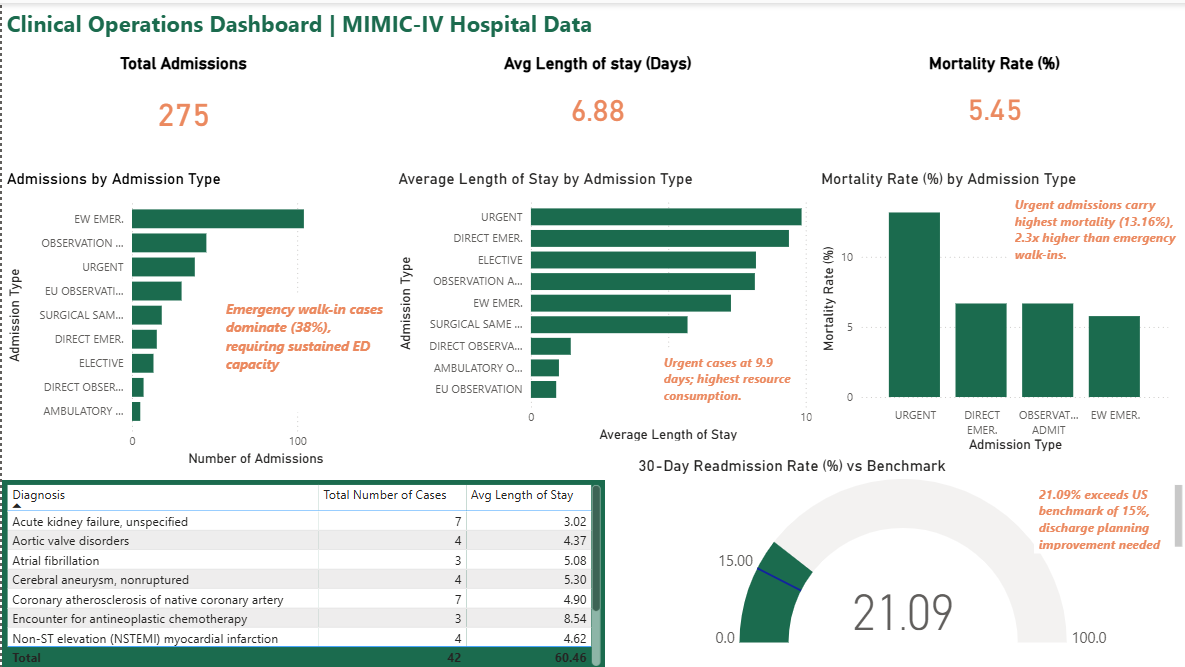

The page's visual inventory and layout, read from the dashboard file:
{"tool":"powerbi","page":{"name":"Clinical Operations Dashboard","canvas":[1280,720],"ordinal":0},"visuals":[{"type":"card","title":"Total Admissions","fields":{"Values":["CountNonNull(merged_admissions.hadm_id)"]},"box":[0,55.1,374,105.2],"z":0},{"type":"card","title":"Avg Length of stay (Days)","fields":{"Values":["Avg(merged_admissions.length_of_stay)"]},"box":[456.6,66.4,361.1,84.2],"z":1000},{"type":"card","title":"Mortality Rate (%)","fields":{"Values":["mortality_by_type.Mortality Rate %"]},"box":[878.4,55.1,401.6,95.5],"z":2000},{"type":"clusteredBarChart","title":"Admissions by Admission Type","fields":{"Category":["merged_admissions.admission_type"],"Y":["CountNonNull(merged_admissions.hadm_id)"]},"box":[0,179.7,422.6,323.8],"z":3000},{"type":"clusteredBarChart","fields":{"Category":["admissions_by_type.admission_type"],"Y":["Avg(admissions_by_type.avg_length_of_stay)"]},"box":[422.1,192.5,456.6,285.4],"z":4000},{"type":"clusteredColumnChart","fields":{"Y":["Avg(mortality_by_type.mortality_rate_pct)"],"Category":["mortality_by_type.admission_type"]},"box":[878.7,179.2,384.9,309.3],"z":5000},{"type":"gauge","title":"30-Day Readmission Rate (%) vs Benchmark ","fields":{"Y":["merged_admissions.Readmission Rate"]},"box":[682.3,488.5,598.6,211],"z":6000},{"type":"textbox","box":[0,0,708.6,54.7],"z":7000},{"type":"tableEx","fields":{"Values":["top_diagnoses.diagnosis","Sum(top_diagnoses.total_cases)","Sum(top_diagnoses.avg_length_of_stay)"]},"box":[0,514.9,650.9,205.6],"z":8000},{"type":"textbox","box":[236.4,314.1,186.2,127.9],"z":9000},{"type":"textbox","box":[709.2,372.4,152.2,84.2],"z":10000},{"type":"textbox","box":[1088.4,203.1,191.1,111.5],"z":11000},{"type":"textbox","box":[1114,514.9,165.2,79.3],"z":12000}]}

Visuals, with their boxes in screenshot pixels (x1, y1, x2, y2), scaled from the page's 1280x720 canvas onto the 1185x667 screenshot:
"Total Admissions" card: locate(0, 51, 346, 149)
"Avg Length of stay (Days)" card: locate(423, 62, 757, 140)
"Mortality Rate (%)" card: locate(813, 51, 1184, 140)
"Admissions by Admission Type" clusteredBarChart: locate(0, 166, 391, 466)
clusteredBarChart - admissions_by_type.admission_type x Avg(admissions_by_type.avg_length_of_stay): locate(391, 178, 813, 443)
clusteredColumnChart - Avg(mortality_by_type.mortality_rate_pct) x mortality_by_type.admission_type: locate(813, 166, 1170, 453)
"30-Day Readmission Rate (%) vs Benchmark " gauge: locate(632, 453, 1184, 648)
textbox: locate(0, 0, 656, 51)
tableEx - top_diagnoses.diagnosis x Sum(top_diagnoses.total_cases): locate(0, 477, 603, 666)
textbox: locate(219, 291, 391, 409)
textbox: locate(657, 345, 797, 423)
textbox: locate(1008, 188, 1184, 291)
textbox: locate(1031, 477, 1184, 550)
